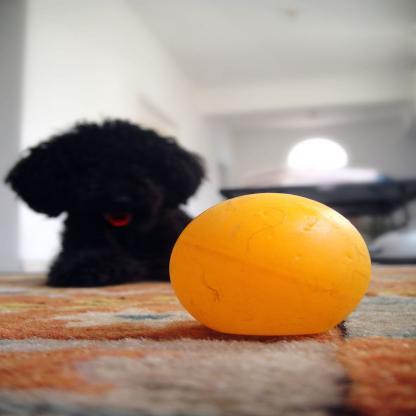Ball: (167, 192, 373, 336)
